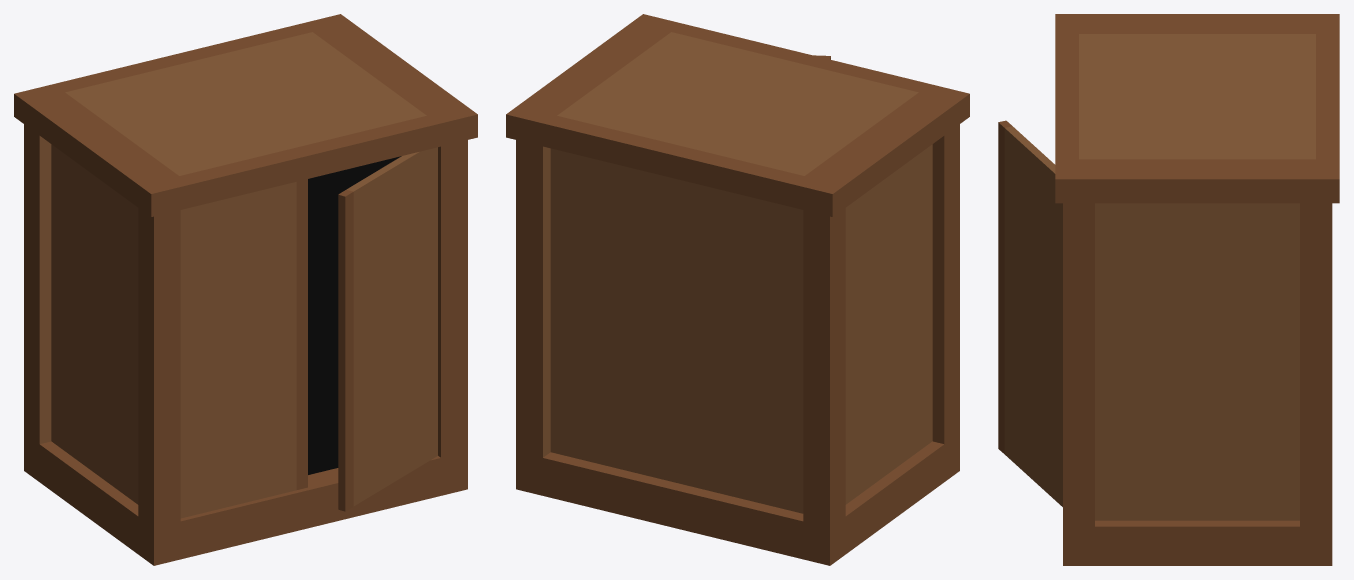
File: Closet.fbx
3 views of the same model, side by side, from view 1: azimuth 30°, elevation 25°; view 2: azimuth 150°, elevation 25°; view 3: azimuth 270°, elevation 25° (orthographic). The views are drawn at different scales.
Parts seen in each view (by area): view 1: Cube.002; view 2: Cube.002; view 3: Cube.002.
Boxes of the visible parts, left/top/right/bottom form: Cube.002: left=14, top=14, right=477, bottom=565; Cube.002: left=506, top=14, right=969, bottom=565; Cube.002: left=998, top=14, right=1339, bottom=565.
Size of the model in its own units: 275 by 302 by 240.
